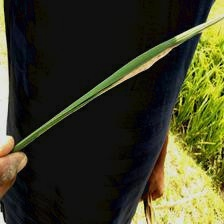Leaf_Blast: (114, 44, 186, 82)
